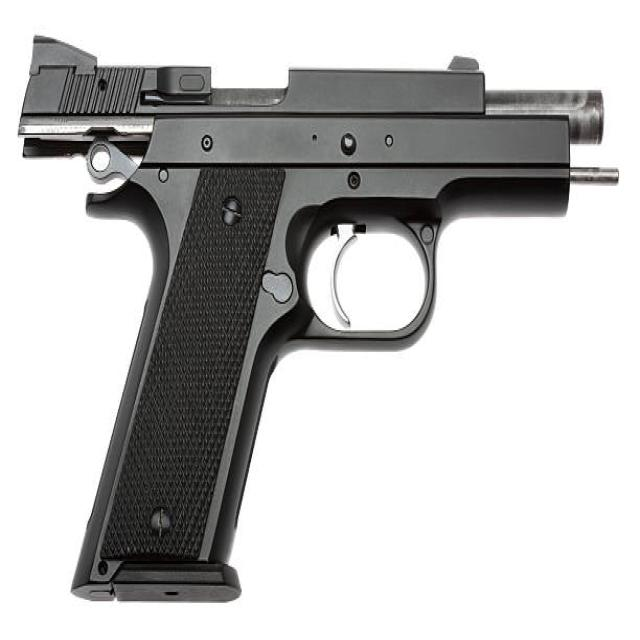pistol: (14, 29, 623, 614)
